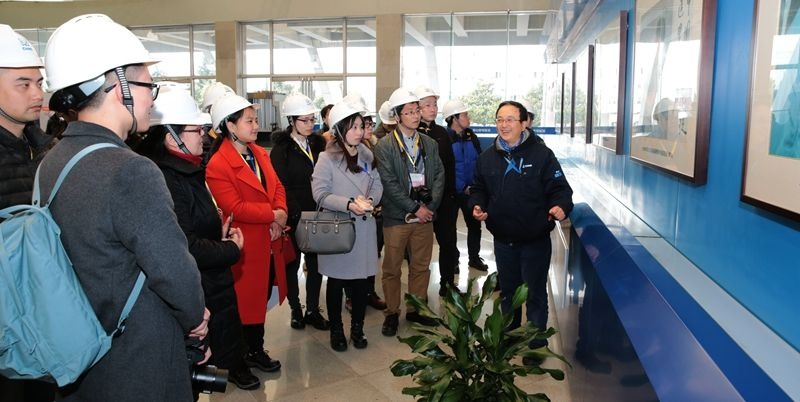none: (493, 98, 527, 144)
white: (41, 10, 159, 144), (1, 22, 47, 130), (150, 89, 209, 166), (208, 92, 262, 150), (324, 99, 368, 148), (280, 92, 318, 141), (387, 87, 423, 133), (442, 98, 473, 133), (416, 83, 440, 124)
